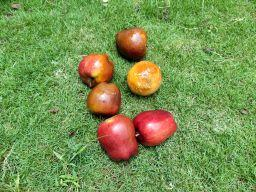apple: (93, 105, 141, 167), (132, 105, 179, 152), (110, 23, 159, 62), (73, 50, 120, 90), (86, 77, 126, 118), (125, 58, 164, 99)
